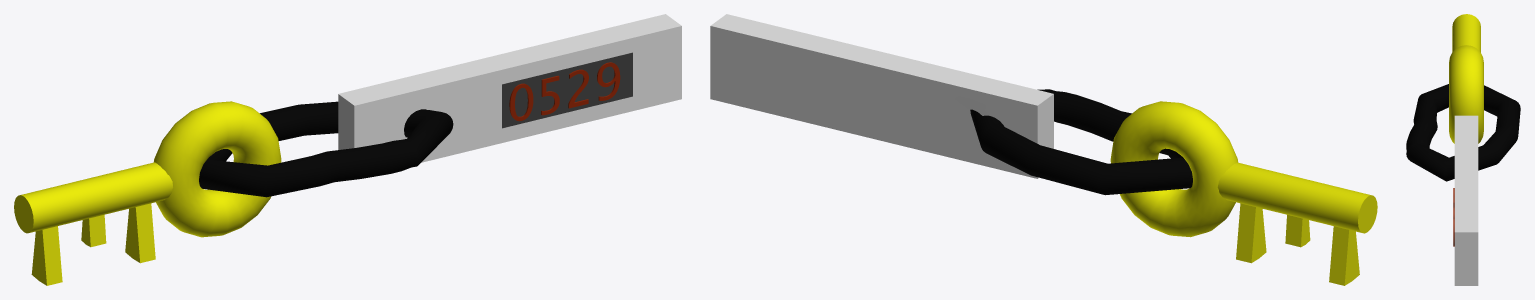
Rendered from DockKey.fbx.
The picture shows the model from 3 angles, left to right: view 1: azimuth 30°, elevation 25°; view 2: azimuth 150°, elevation 25°; view 3: azimuth 270°, elevation 25°; orthographic projection. The views are drawn at different scales.
Visible parts, largest first — view 1: KeyTag, String, KeyRing, KeyInsert, Numbers; view 2: KeyTag, KeyRing, KeyInsert, String; view 3: String, KeyTag, KeyRing, KeyInsert, Numbers.
Boxes of the visible parts, x1,y1,x2,y2 form: KeyTag: [338, 14, 681, 162]; String: [199, 101, 453, 197]; KeyRing: [153, 101, 281, 237]; KeyInsert: [14, 162, 172, 285]; Numbers: [509, 62, 620, 121]; KeyTag: [710, 14, 1053, 178]; KeyRing: [1110, 101, 1238, 237]; KeyInsert: [1217, 162, 1377, 285]; String: [970, 89, 1192, 195]; String: [1406, 84, 1520, 181]; KeyTag: [1454, 115, 1478, 285]; KeyRing: [1449, 45, 1483, 143]; KeyInsert: [1452, 14, 1480, 52]; Numbers: [1453, 188, 1454, 246].
Size of the model in its own units: 42.74 by 8.41 by 8.92.
